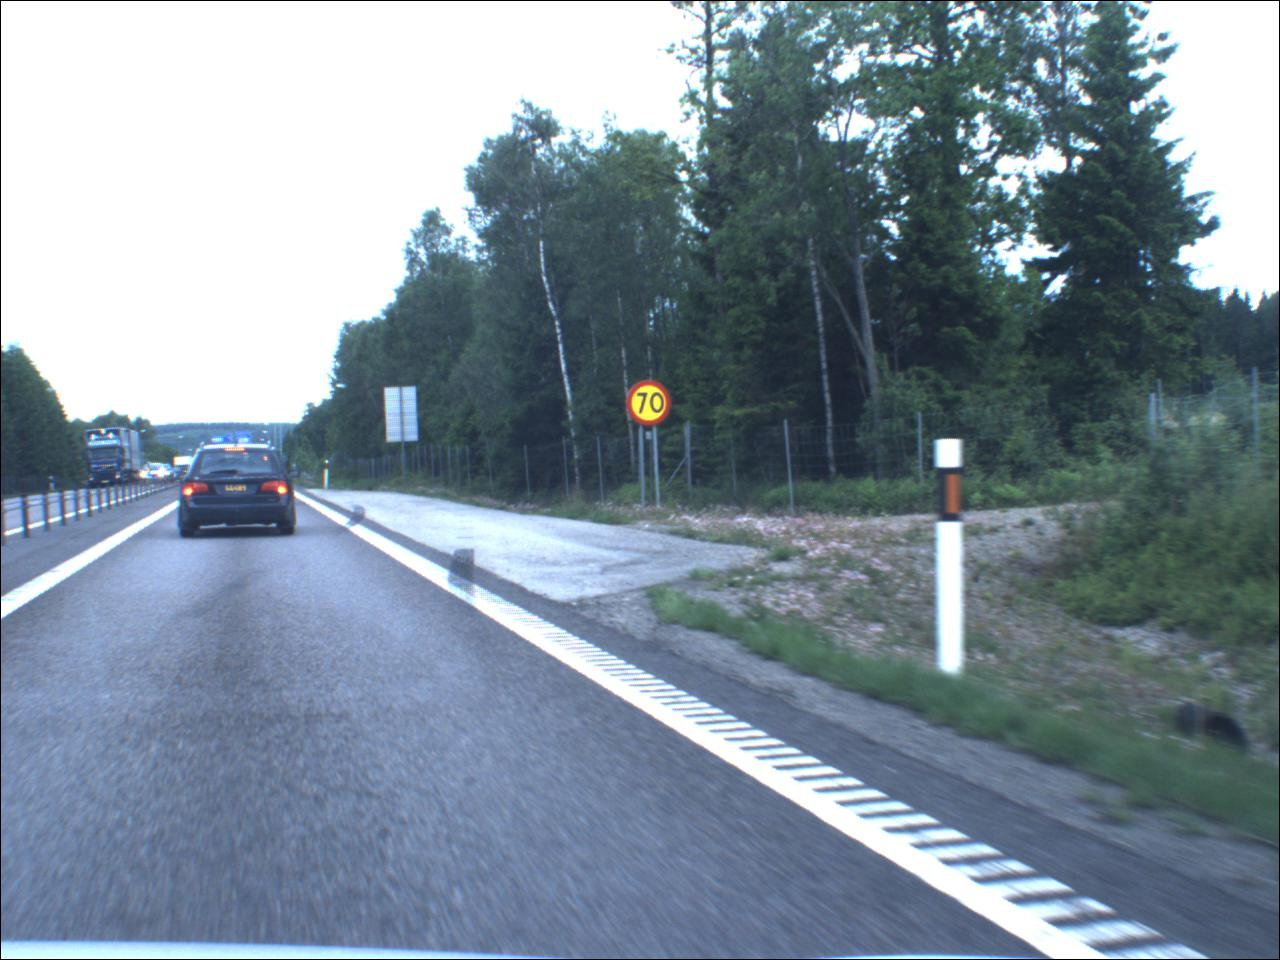70_SIGN: (624, 378, 676, 428)
